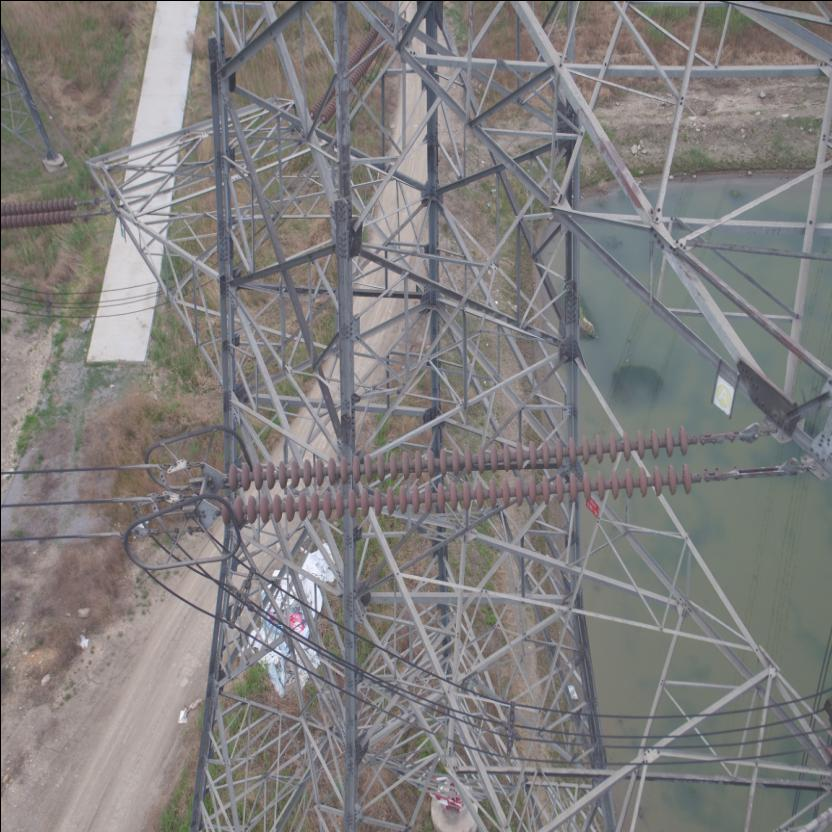insulator: (208, 420, 734, 528), (0, 192, 90, 228)
